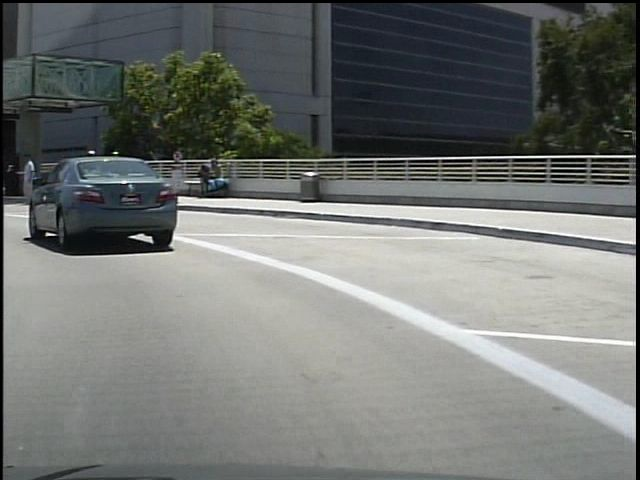person: (103, 148, 125, 202), (16, 152, 38, 206), (78, 146, 98, 200)
